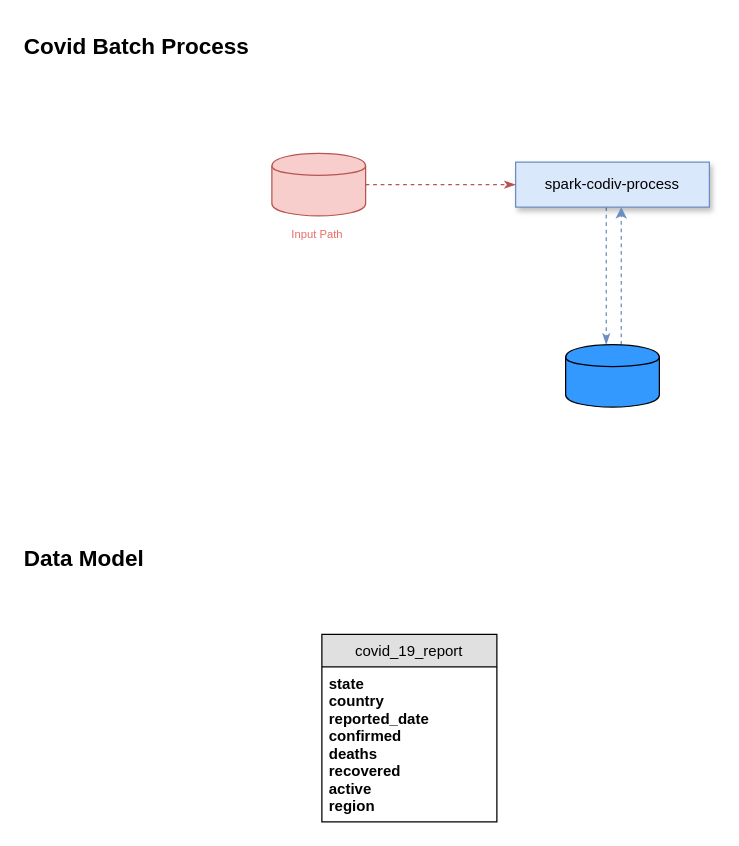
Some shapes in this 739 by 846 pixel diagram are drawn without their labels. The shapes that lost their labels are listed below. From the top down, each one's centre as x and y in pixels, then its label:
At point (318, 184): "/input".
At point (611, 375): "File System: parquet".
